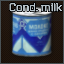Condensed milk: (0, 0, 64, 64)
